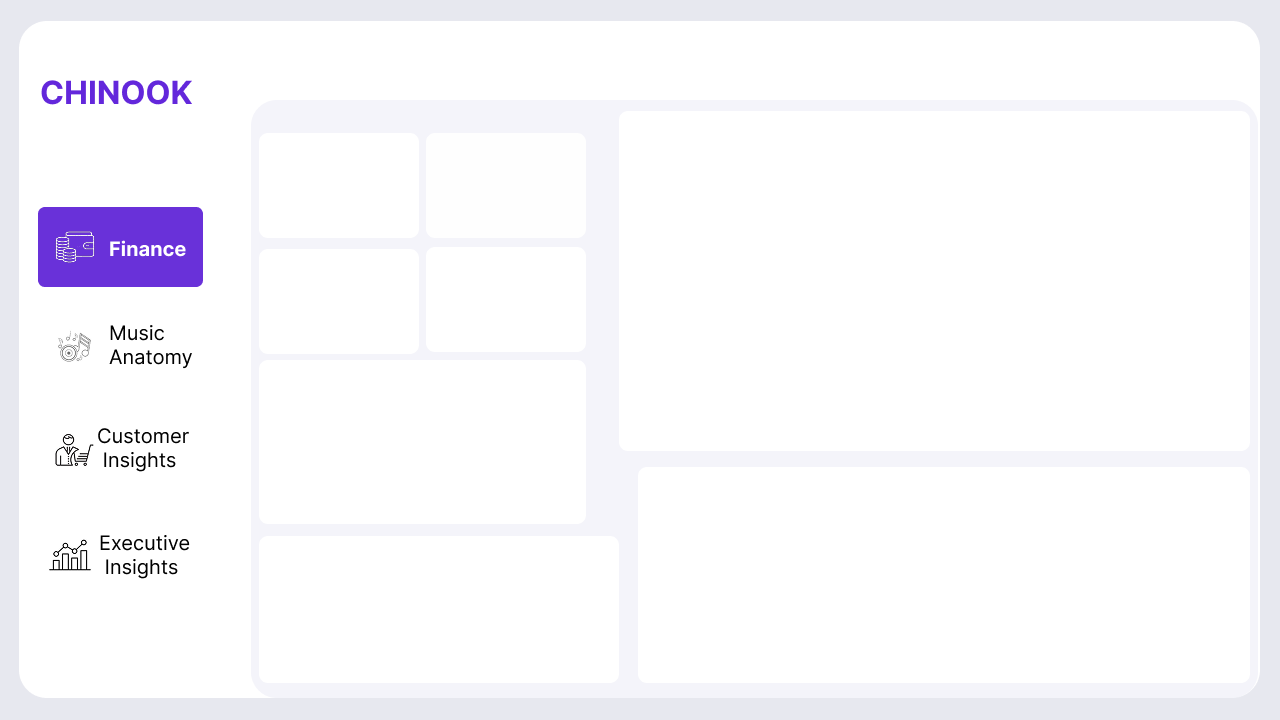

What the dashboard file says about the page in this screenshot:
{"tool":"powerbi","page":{"name":"finance","canvas":[1280,720],"ordinal":0},"visuals":[{"type":"lineChart","title":"Revenue by Month","fields":{"Y":["_Measures.Total Revenue"],"Category":["DateTable.MonthName"]},"box":[630,125.7,610,310],"z":0},{"type":"slicer","title":"Select a Year","fields":{"Values":["DateTable.Year"]},"box":[1097.1,32.9,121.4,52.9],"z":1000},{"type":"columnChart","title":"Annual Revenue","fields":{"Category":["DateTable.Year"],"Y":["_Measures.Total Revenue"]},"box":[640,474.3,600,201.4],"z":2000},{"type":"donutChart","title":"Top 5 Revenue Countries","fields":{"Category":["customer.Country"],"Y":["_Measures.Total Revenue"]},"box":[264.3,538.6,348.6,137.1],"z":3000},{"type":"barChart","title":"Revenue by Genre","fields":{"Category":["genre.Name"],"Y":["_Measures.Total Revenue"]},"box":[264.3,361.4,335.7,148.6],"z":4000},{"type":"cardVisual","title":"Total Track Sold","fields":{"Data":["_Measures.Total Tracks Sold"]},"box":[264.3,254.3,154.3,105.7],"z":5000},{"type":"cardVisual","title":"Avg Invoice Value","fields":{"Data":["_Measures.Avg Invoice Value"]},"box":[467.1,254.3,132.9,92.9],"z":6000},{"type":"cardVisual","title":"Total Revenue","fields":{"Data":["_Measures.Total Revenue"]},"box":[280.3,146.6,138,93.4],"z":7000},{"type":"cardVisual","title":"Total Orders","fields":{"Data":["_Measures.Total Orders"]},"box":[455.7,143.8,133.7,96.3],"z":8000},{"type":"actionButton","box":[38.9,406.5,175.2,80.3],"z":9000},{"type":"actionButton","box":[38.9,509.9,175.2,80.3],"z":10000},{"type":"actionButton","box":[38.9,306.7,175.2,80.3],"z":11000},{"type":"actionButton","box":[29.2,200.8,194.7,88.8],"z":12000}]}

Visuals, with their boxes in screenshot pixels (x1, y1, x2, y2), scaled from the page's 1280x720 canvas onto the 1280x720 screenshot:
"Revenue by Month" lineChart: box=[630, 126, 1240, 436]
"Select a Year" slicer: box=[1097, 33, 1218, 86]
"Annual Revenue" columnChart: box=[640, 474, 1240, 676]
"Top 5 Revenue Countries" donutChart: box=[264, 539, 613, 676]
"Revenue by Genre" barChart: box=[264, 361, 600, 510]
"Total Track Sold" cardVisual: box=[264, 254, 419, 360]
"Avg Invoice Value" cardVisual: box=[467, 254, 600, 347]
"Total Revenue" cardVisual: box=[280, 147, 418, 240]
"Total Orders" cardVisual: box=[456, 144, 589, 240]
actionButton: box=[39, 406, 214, 487]
actionButton: box=[39, 510, 214, 590]
actionButton: box=[39, 307, 214, 387]
actionButton: box=[29, 201, 224, 290]
